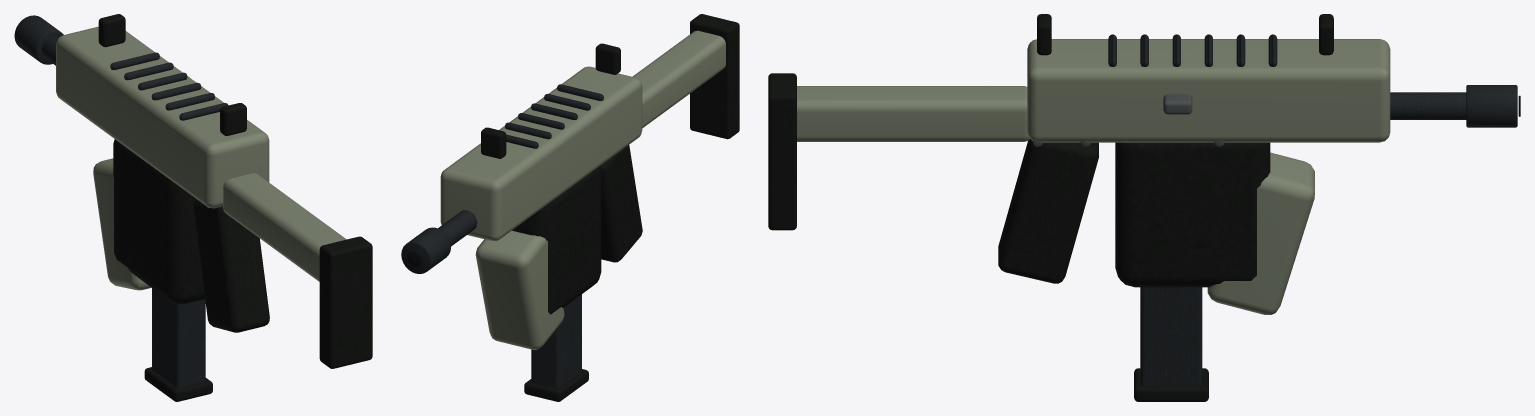
The model's file is vector.glb.
3 views of the same model, side by side, from view 1: azimuth 30°, elevation 25°; view 2: azimuth 150°, elevation 25°; view 3: azimuth 270°, elevation 25° (orthographic). The views are drawn at different scales.
Parts seen in each view (by area): view 1: weapon_Ceramic green, weapon_Reinforced polymer, magazine_Manganese phosphate, weapon_Manganese phosphate, magazine_Reinforced polymer; view 2: weapon_Ceramic green, weapon_Reinforced polymer, weapon_Manganese phosphate, magazine_Manganese phosphate, magazine_Reinforced polymer; view 3: weapon_Ceramic green, weapon_Reinforced polymer, magazine_Manganese phosphate, weapon_Manganese phosphate, magazine_Reinforced polymer.
Part boxes in pixels (x1,y1,x2,y2): weapon_Ceramic green: [56, 26, 346, 290]; weapon_Reinforced polymer: [98, 14, 372, 368]; magazine_Manganese phosphate: [152, 288, 205, 387]; weapon_Manganese phosphate: [14, 15, 228, 120]; magazine_Reinforced polymer: [144, 367, 212, 401]; weapon_Ceramic green: [440, 30, 725, 349]; weapon_Reinforced polymer: [407, 14, 739, 314]; weapon_Manganese phosphate: [401, 84, 603, 273]; magazine_Manganese phosphate: [531, 294, 581, 388]; magazine_Reinforced polymer: [524, 369, 588, 401]; weapon_Ceramic green: [797, 39, 1390, 314]; weapon_Reinforced polymer: [768, 14, 1520, 287]; magazine_Manganese phosphate: [1140, 287, 1202, 386]; weapon_Manganese phosphate: [1108, 34, 1517, 127]; magazine_Reinforced polymer: [1134, 368, 1208, 401].
Bounding box in the file's own units: 0.098 × 0.3855 × 0.7045.
Materials: 4 (3 with a texture image).
